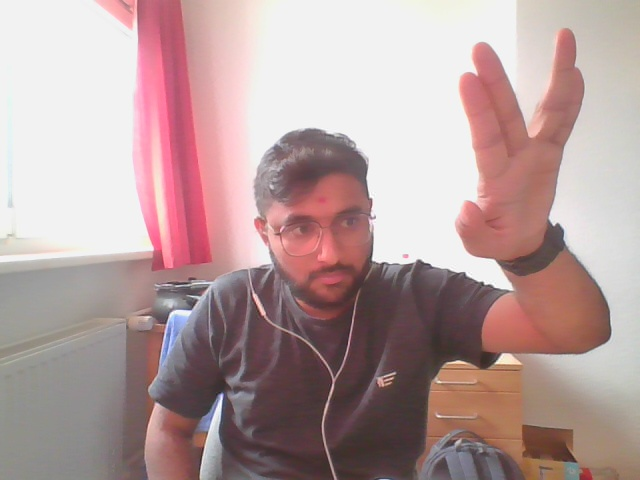LiveLong: (454, 30, 585, 263)
